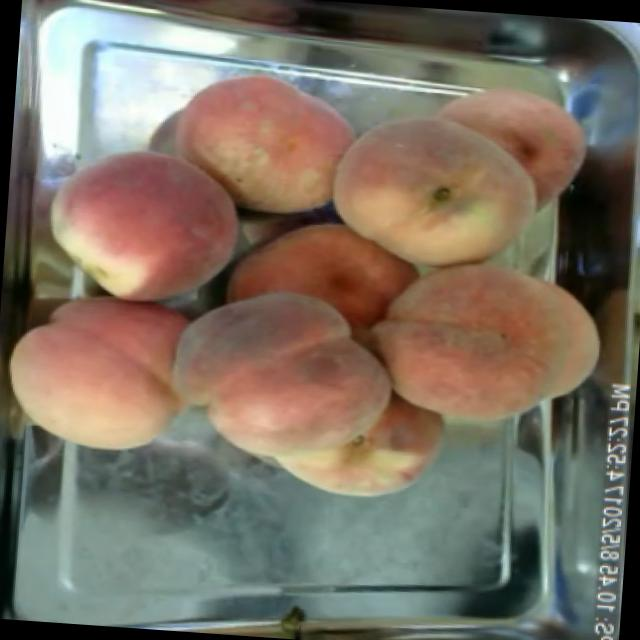Fruit: (162, 272, 452, 510), (355, 238, 617, 440), (312, 93, 550, 286), (30, 129, 254, 321), (0, 276, 206, 468), (161, 53, 371, 223)
